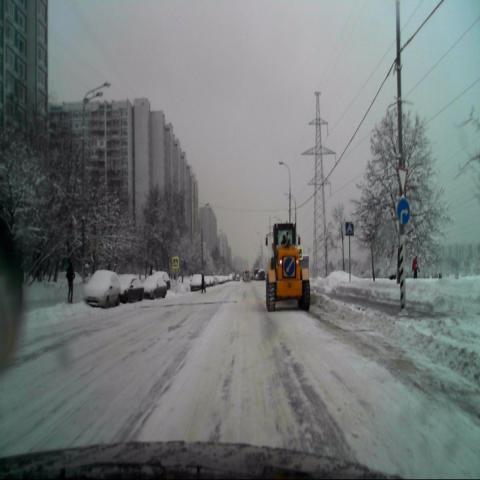4_1_2: (396, 196, 410, 226)
